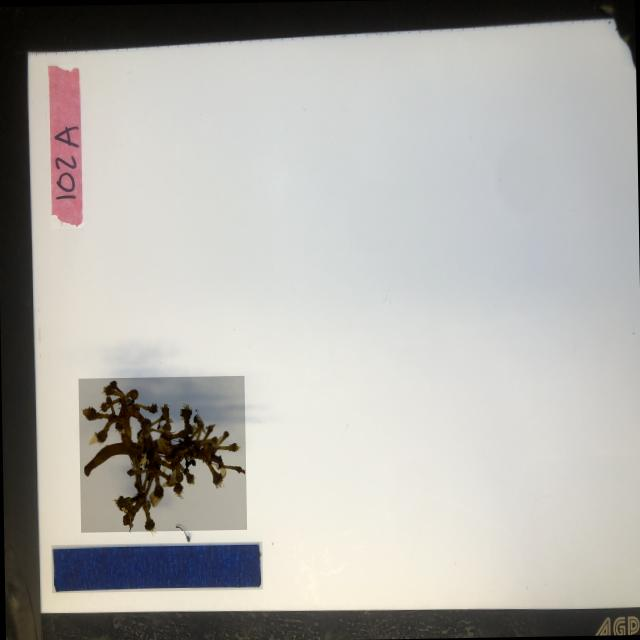index: (48, 63, 82, 228)
measure_label: (51, 540, 263, 592)
rachis_cluster: (79, 374, 248, 532)
